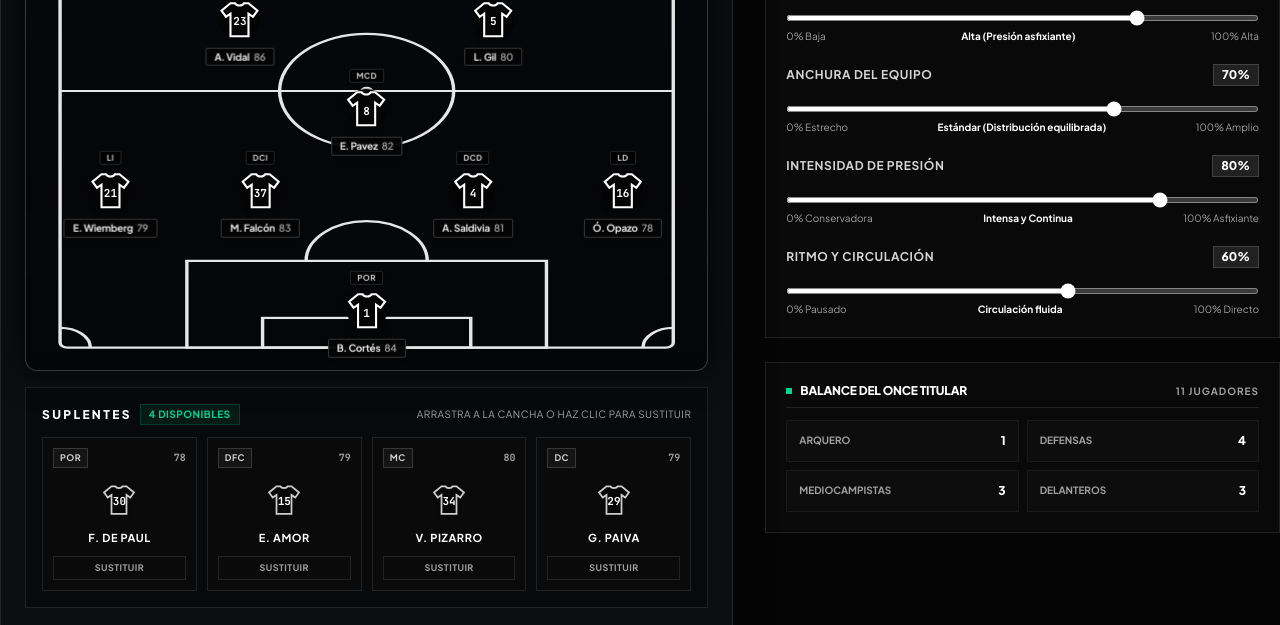
Módulo de Pizarra Táctica y Formaciones (Pantalla 5) › permite sustituir jugadores compatibles y muestra error directo en suplentes si se intenta cambio incompatible
(page scrolled)
Note: paso a: seleccionar al arquero brayan cortes
Click the text "B. Cortés": {"x": 358, "y": 347} [337,341,380,353]
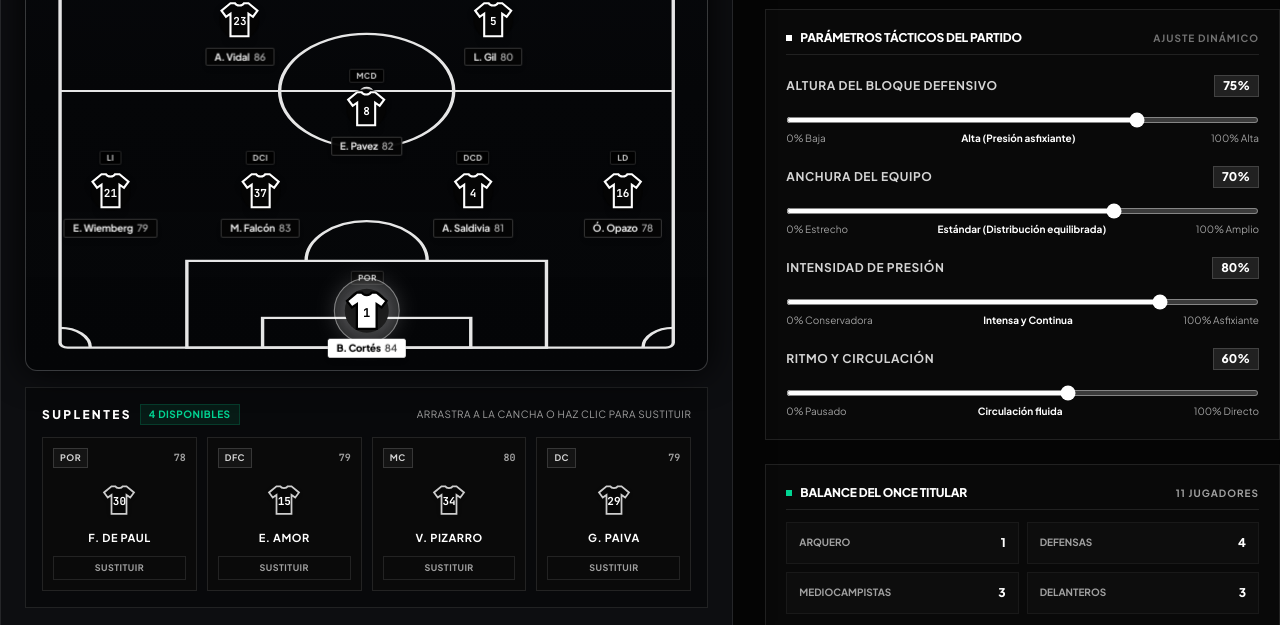
Note: intentar sustituir al arquero con el delantero guillermo paiva
Click the button "Sustituir" below "G. Paiva": {"x": 614, "y": 567} [548,556,680,579]
(page scrolled)
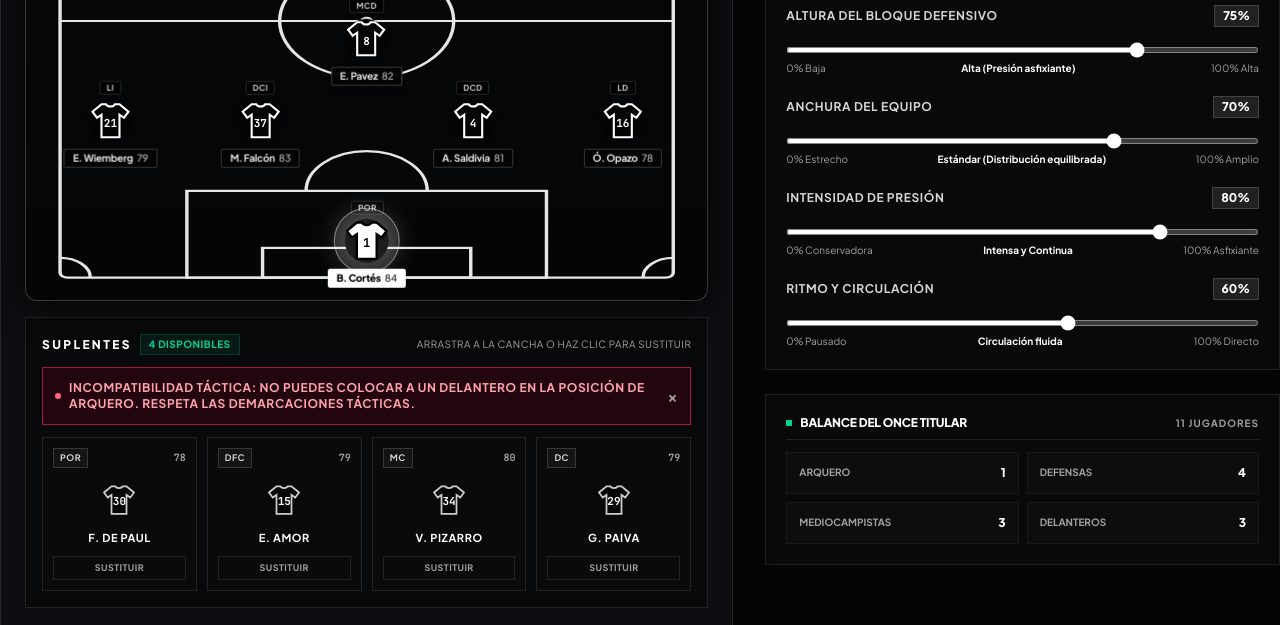
Result: the text "no puedes colocar a un delantero en la posición de arquero" is shown at [69,380,645,410]
Note: paso b: sustituir al arquero cortes con el arquero suplente fernando de paul
Click the button "Sustituir" below "F. De Paul": {"x": 119, "y": 567} [53,556,186,579]
(page scrolled)
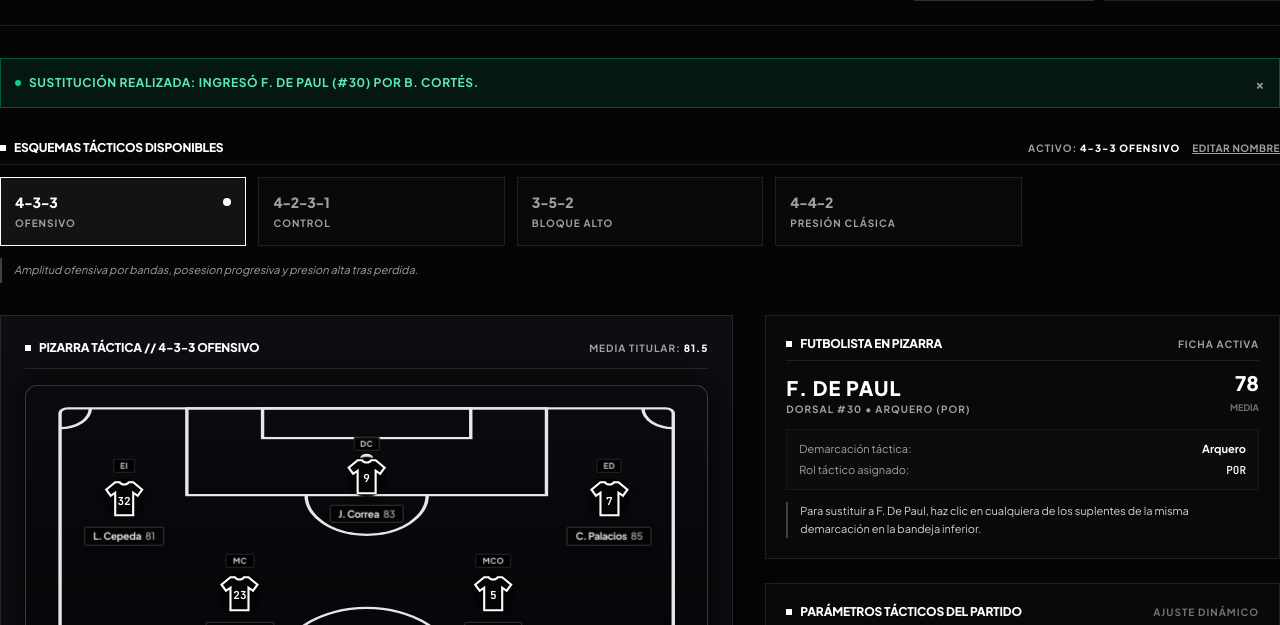
Result: the text "Sustitución realizada: ingresó F. De Paul (#30) por B. Cortés" is shown at [29,75,479,90]
